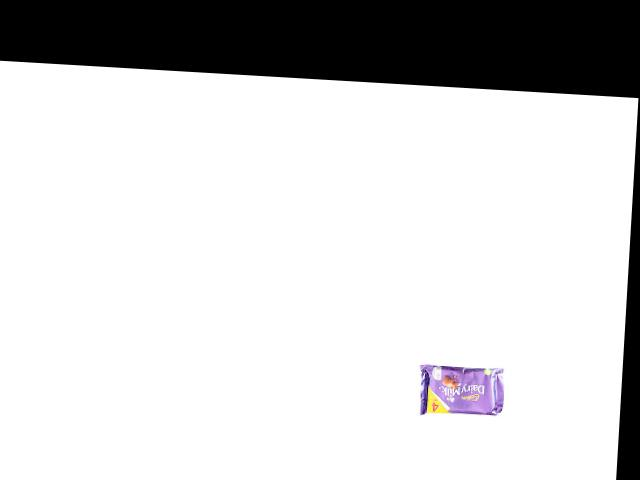chocolate: (407, 356, 508, 419)
